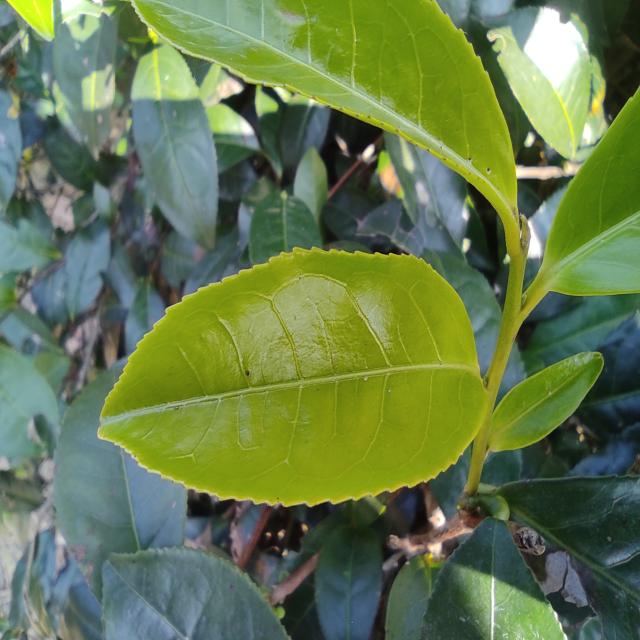Category C 4-7 days: (79, 225, 500, 523)
